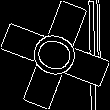O_E: (23, 26, 87, 84)
